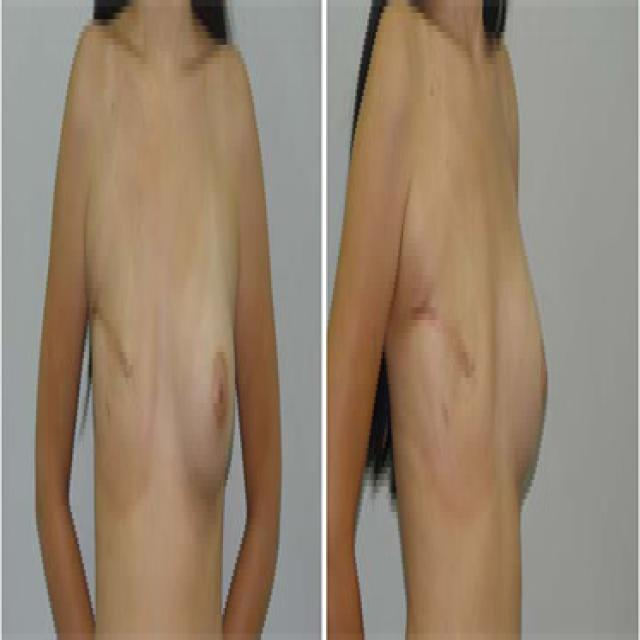Seno herido: (394, 177, 498, 545), (88, 181, 164, 531)
Seno ileso: (166, 181, 238, 531), (500, 177, 552, 544)
